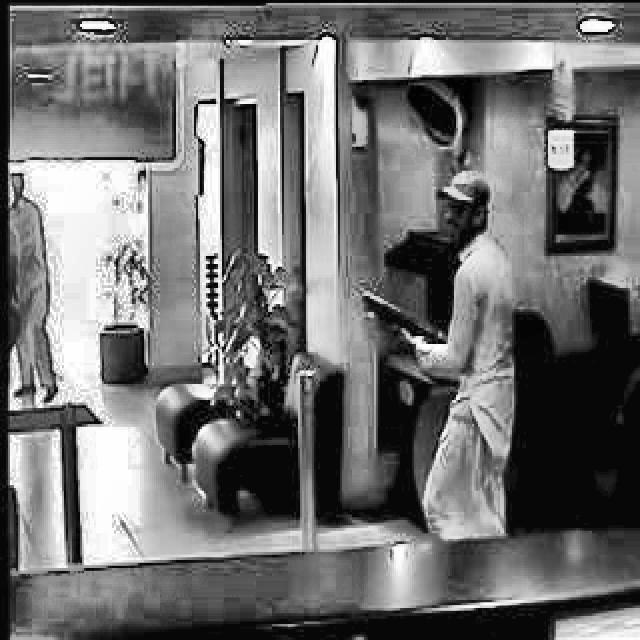robbery: (356, 166, 520, 536)
